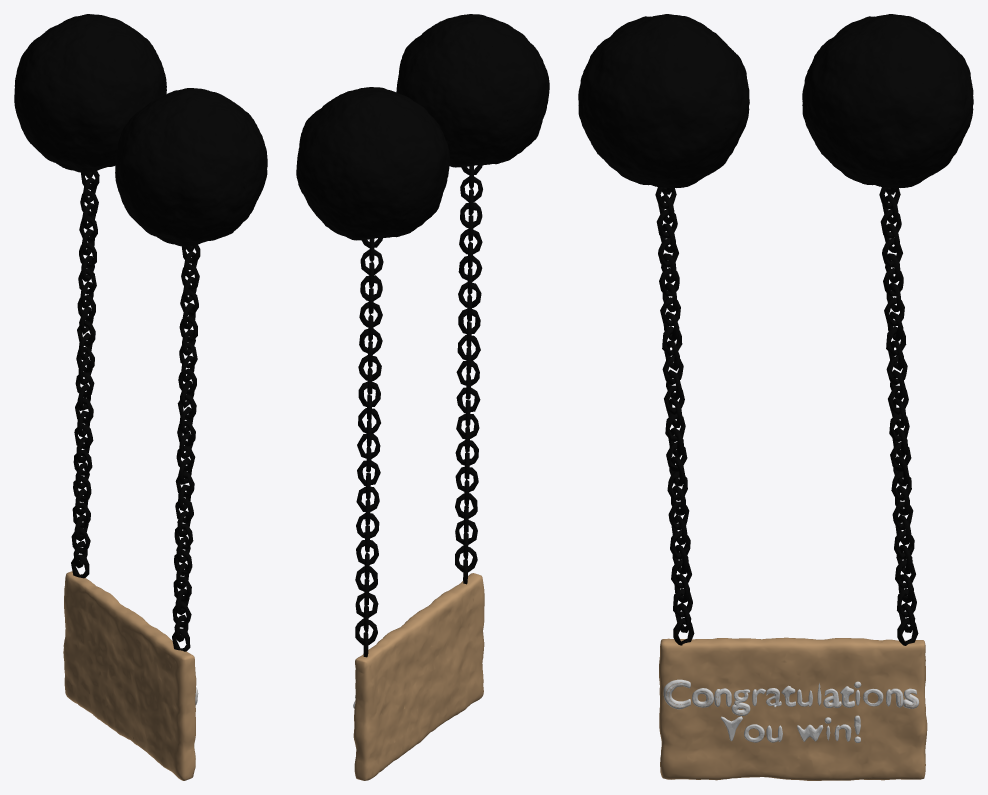
Rendered from Congrats.glb.
3 renders of one model, left to right at view 1: azimuth 30°, elevation 25°; view 2: azimuth 150°, elevation 25°; view 3: azimuth 270°, elevation 25°, orthographic. The views are drawn at different scales.
Visible parts, largest first — view 1: Demolición.001, Demolición.002, Cube; view 2: Demolición.002, Demolición.001, Cube; view 3: Cube, Demolición.001, Demolición.002, Text.036.
Part boxes in pixels (x1=…): Demolición.001: x1=115, y1=88, x2=267, y2=651; Demolición.002: x1=14, y1=14, x2=166, y2=578; Cube: x1=63, y1=571, x2=196, y2=780; Demolición.002: x1=296, y1=87, x2=449, y2=657; Demolición.001: x1=396, y1=14, x2=549, y2=584; Cube: x1=353, y1=573, x2=484, y2=780; Cube: x1=659, y1=637, x2=927, y2=780; Demolición.001: x1=578, y1=14, x2=749, y2=645; Demolición.002: x1=802, y1=14, x2=973, y2=645; Text.036: x1=663, y1=679, x2=919, y2=742.
Size of the model in its own units: 3.02 by 14.71 by 6.93.
